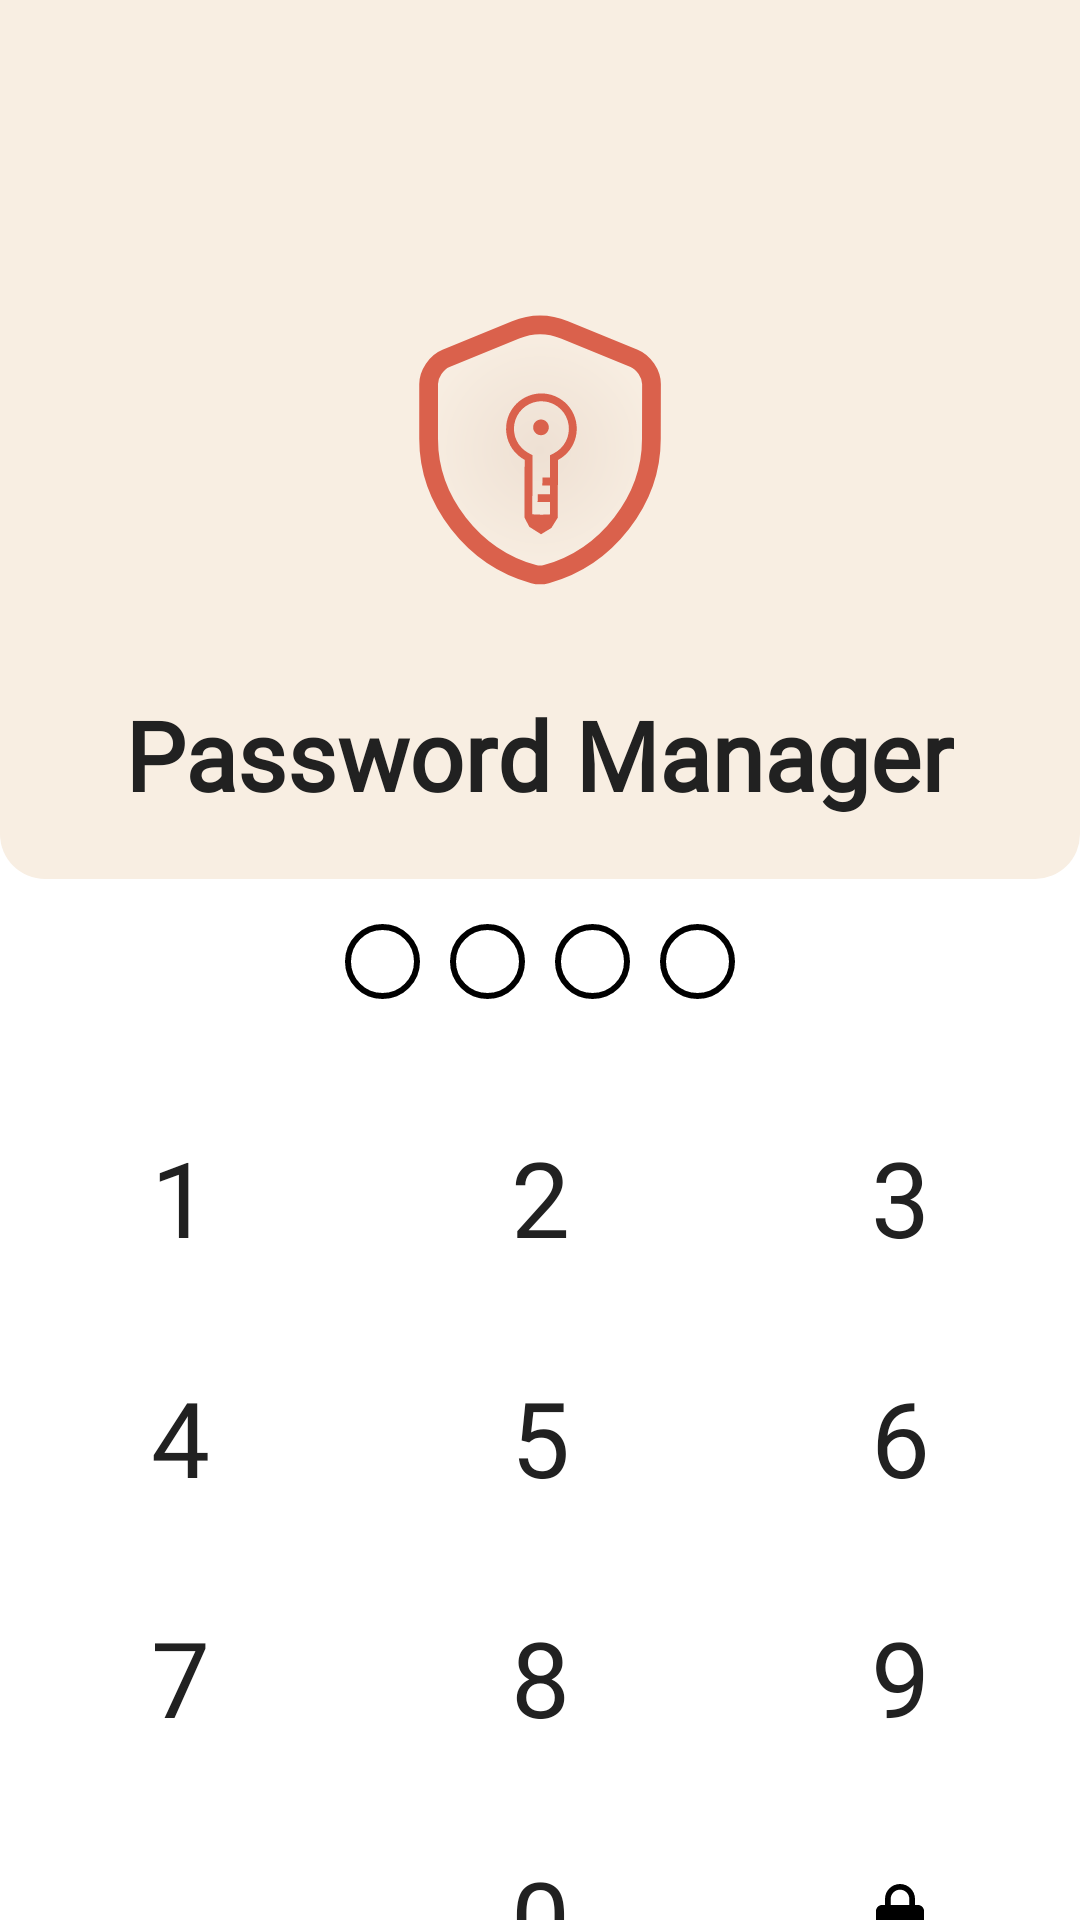

Named icons in this screenshot (1080px x 1920px) and their bounding boxes, (x1, y1, x2, y2):
pin dot not: (345, 924, 420, 999), (450, 924, 525, 999), (555, 924, 630, 999), (660, 924, 735, 999)
